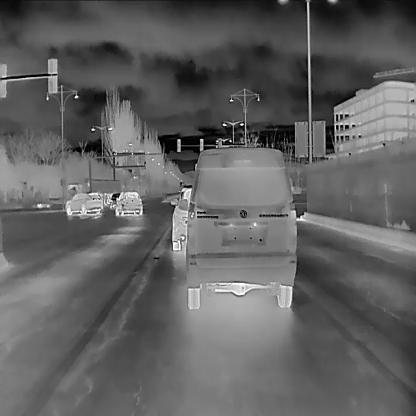car: (177, 146, 296, 309), (168, 184, 194, 251), (64, 178, 122, 206), (64, 190, 103, 215), (113, 190, 142, 216), (107, 191, 121, 209)
